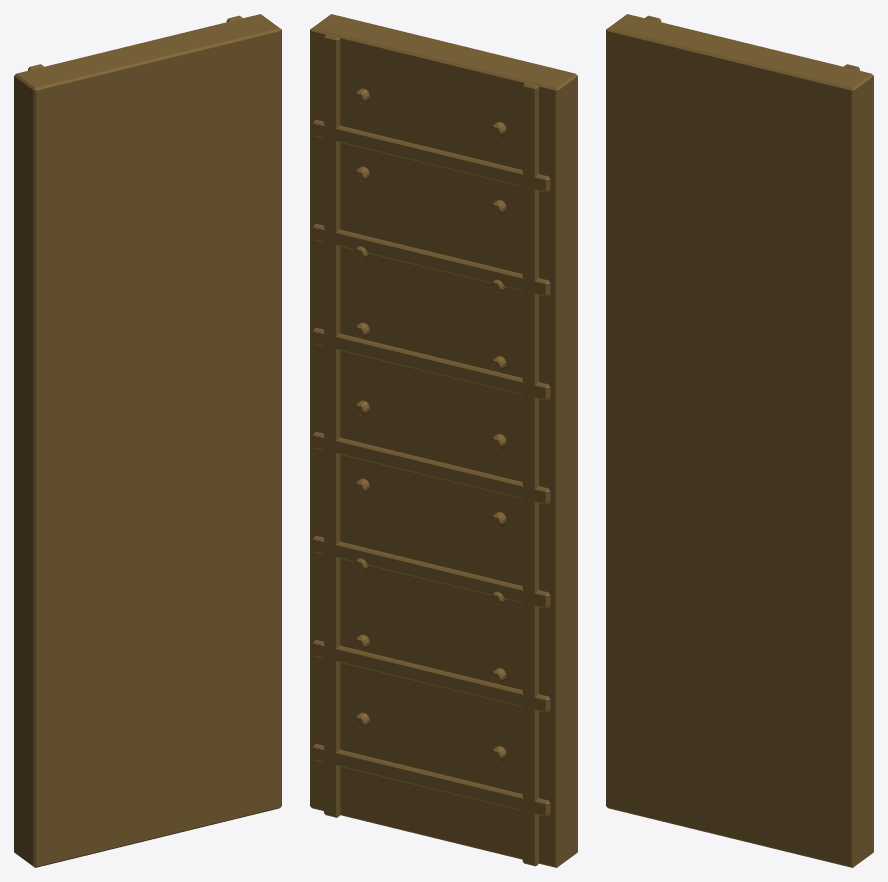
The model's file is gate_leaf.fbx.
3 views of the same model, side by side, from view 1: azimuth 30°, elevation 25°; view 2: azimuth 150°, elevation 25°; view 3: azimuth 330°, elevation 25° (orthographic).
Parts seen in each view (by area): view 1: gate_leaf; view 2: gate_leaf; view 3: gate_leaf.
Boxes of the visible parts, x1,y1,x2,y2 form: gate_leaf: [14, 14, 281, 867]; gate_leaf: [310, 14, 577, 867]; gate_leaf: [606, 14, 873, 867].
Bounding box in the file's own units: 2000 × 6000 × 380.
